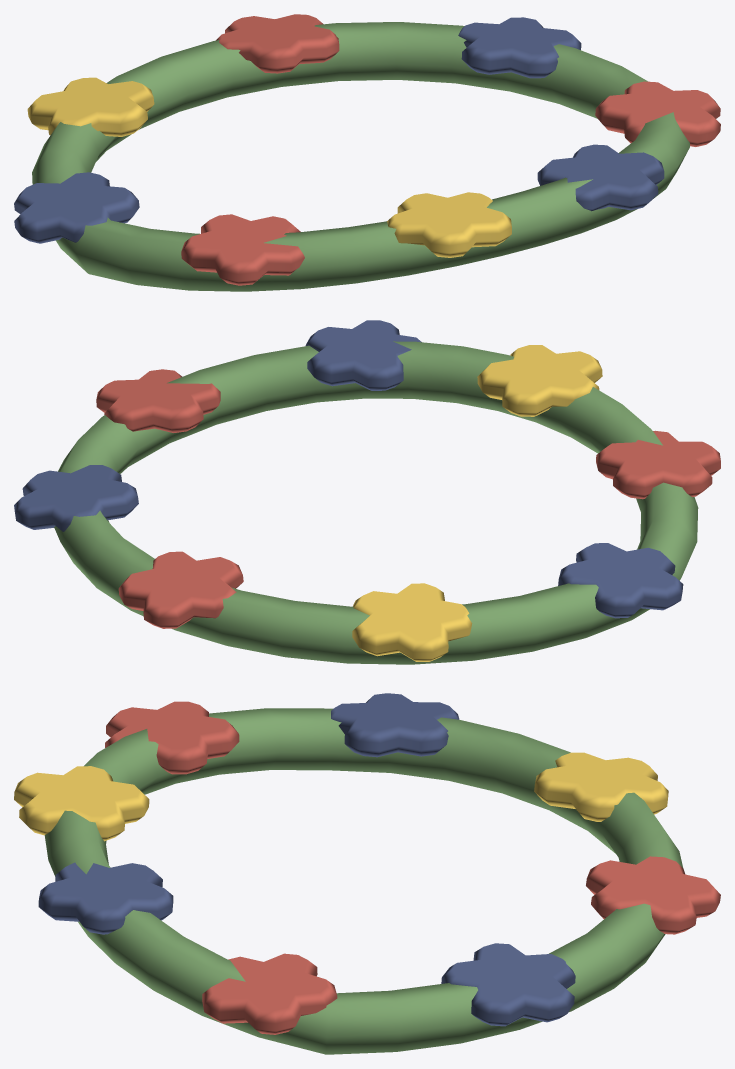
Rendered from cool_pansy_crown.glb.
The picture shows the model from 3 angles, top to bottom: view 1: azimuth 30°, elevation 25°; view 2: azimuth 150°, elevation 25°; view 3: azimuth 270°, elevation 25°; orthographic projection. The views are drawn at different scales.
Visible parts, largest first — view 1: cool_pansy_crown_Head; view 2: cool_pansy_crown_Head; view 3: cool_pansy_crown_Head.
Boxes of the visible parts, x1,y1,x2,y2 form: cool_pansy_crown_Head: (14, 14, 720, 291); cool_pansy_crown_Head: (14, 320, 720, 664); cool_pansy_crown_Head: (14, 693, 720, 1054).
Bounding box in the file's own units: 0.562 × 0.0754 × 0.5018.
